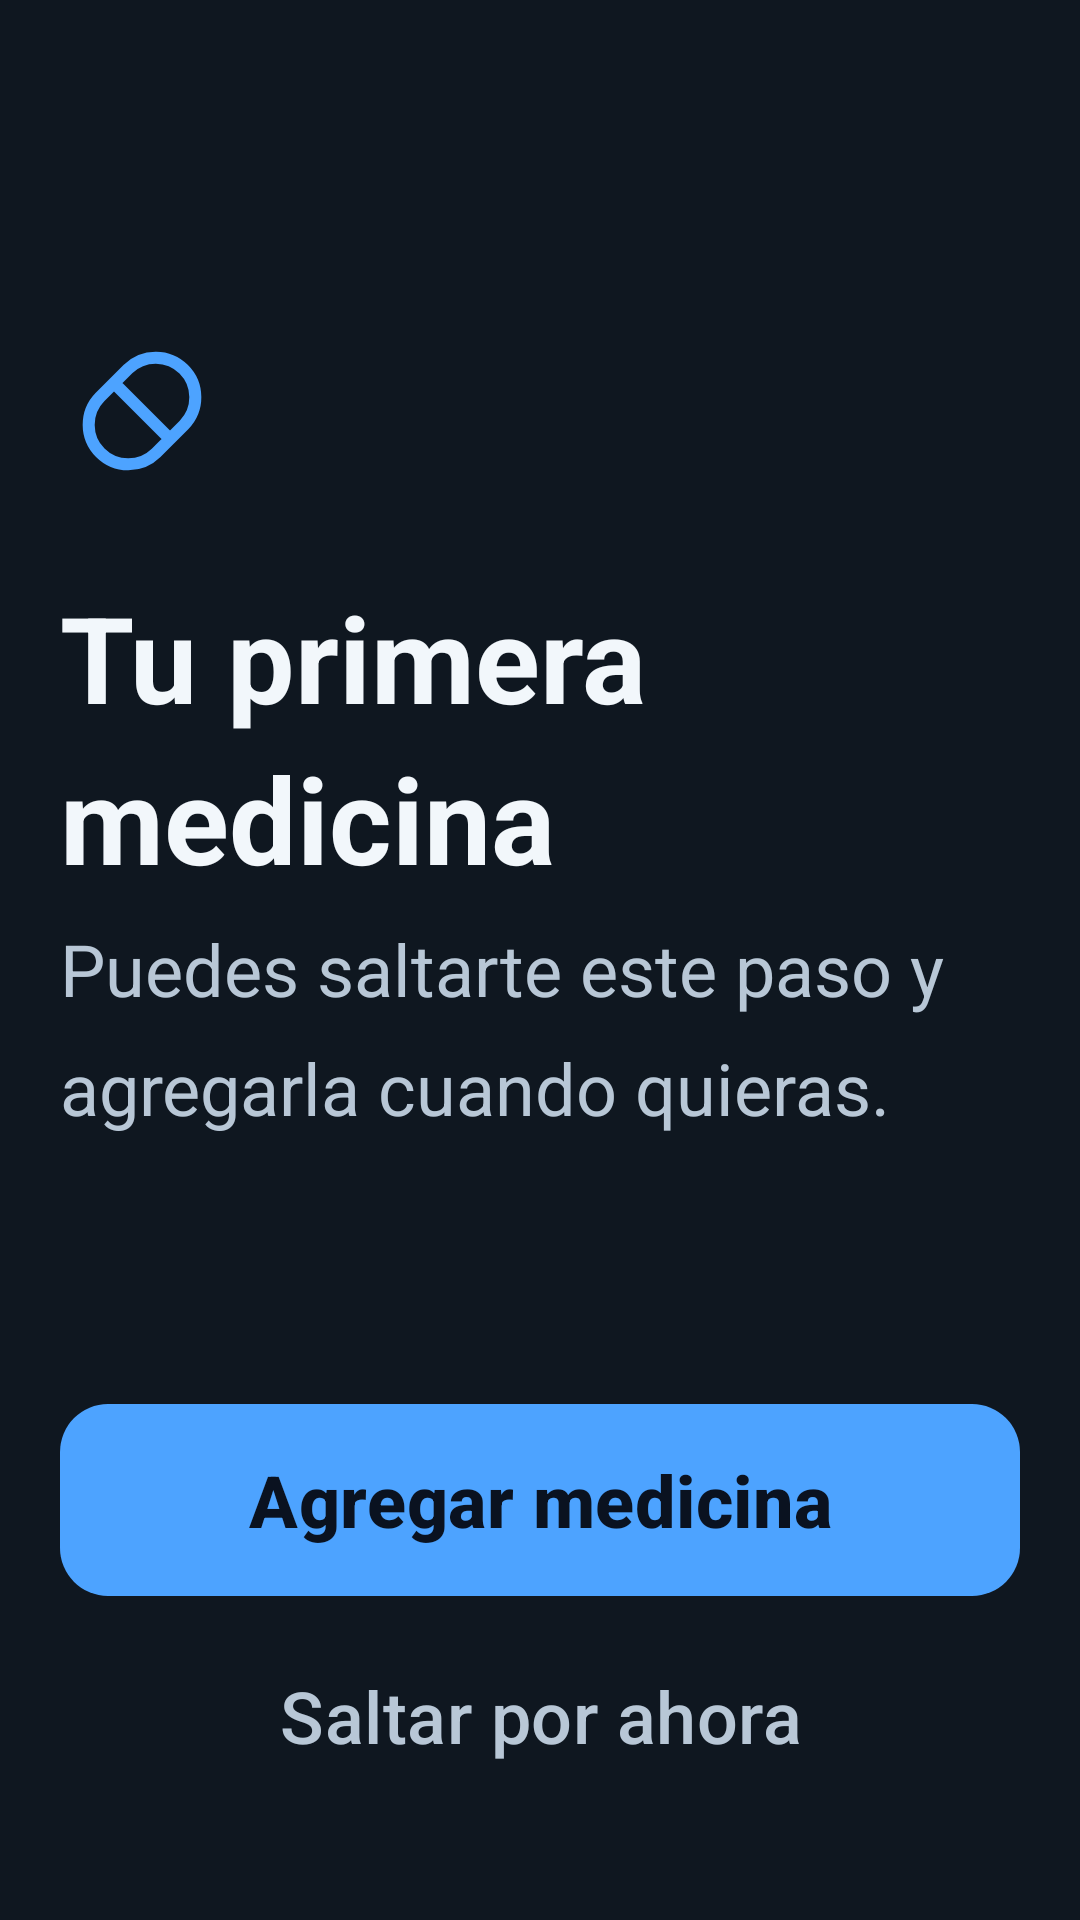

Icon click points for this 1080w x 1920h phone screenshot, format (x=x, y=y):
pastilla: (x=142, y=411)
